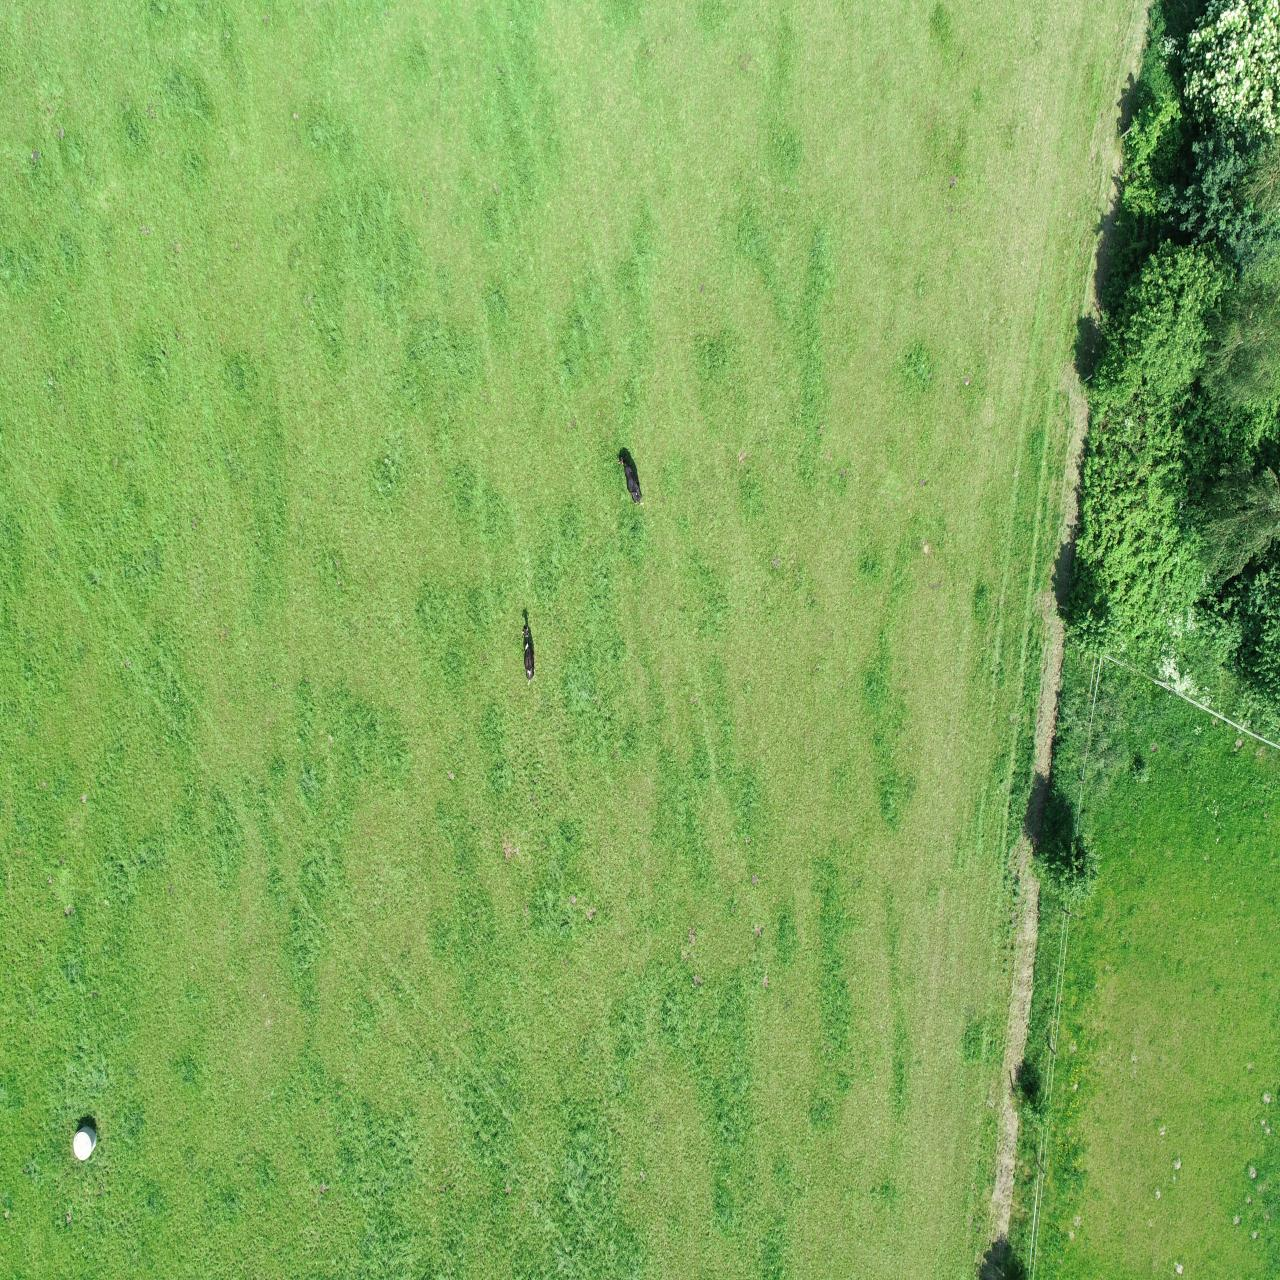cow: (617, 451, 648, 508), (518, 622, 537, 688)
